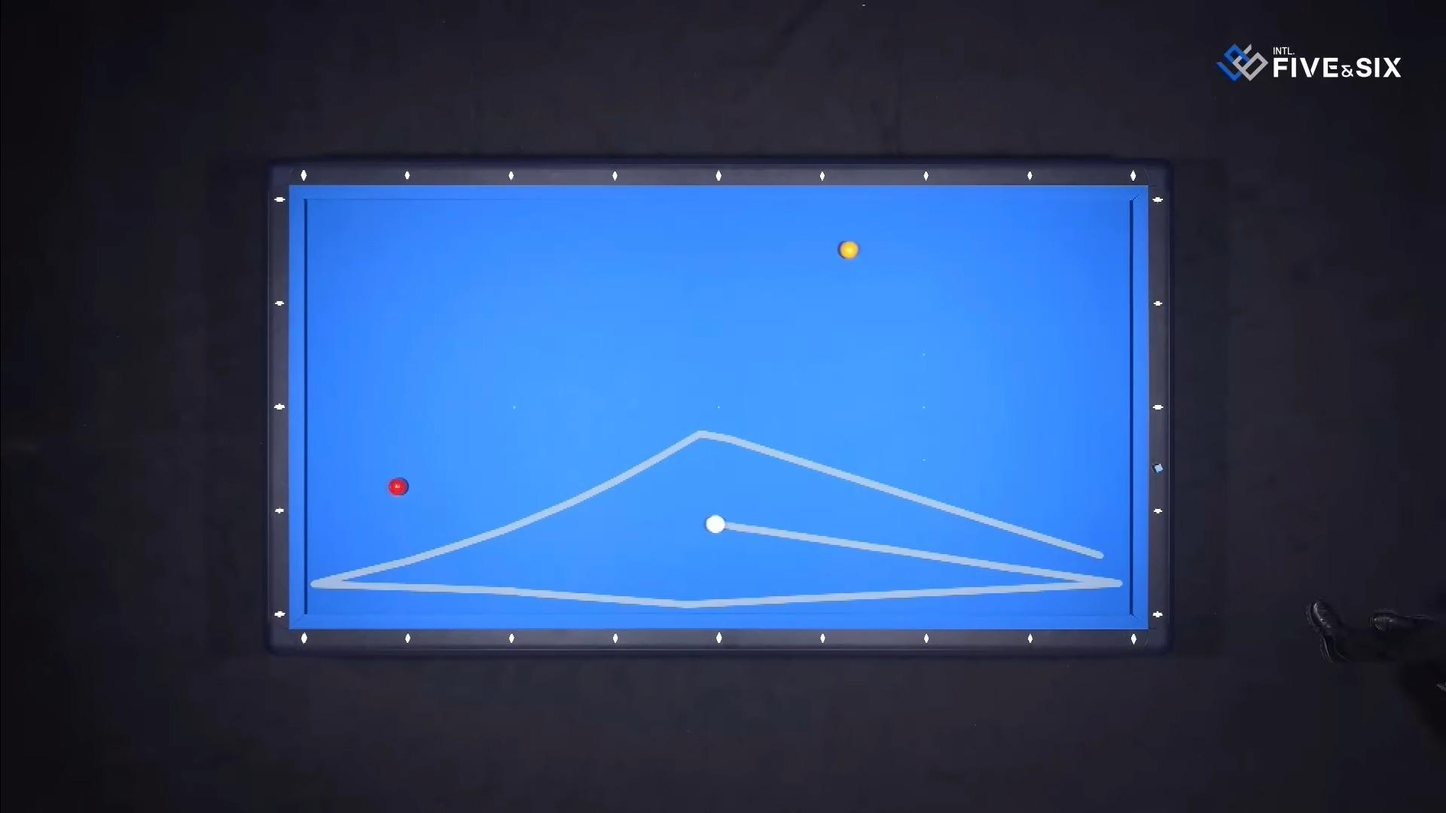Red: (386, 480, 410, 498)
White: (703, 516, 731, 537)
Yellow: (840, 239, 864, 259)
